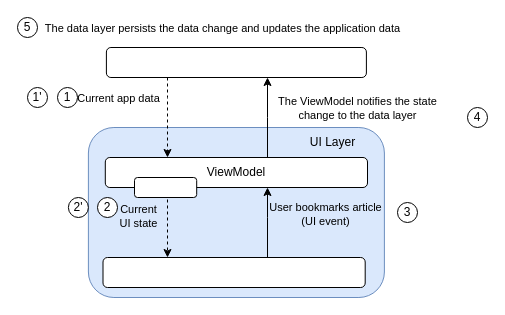
Image size: 505x315. Some labels were removed from this diagram. Here are the shapes that lost their labels. From the top down, the centre of each, then its label:
At pixel 235 62: "Data Layer".
At pixel 165 187: "UI state".
At pixel 233 272: "UI elements".
